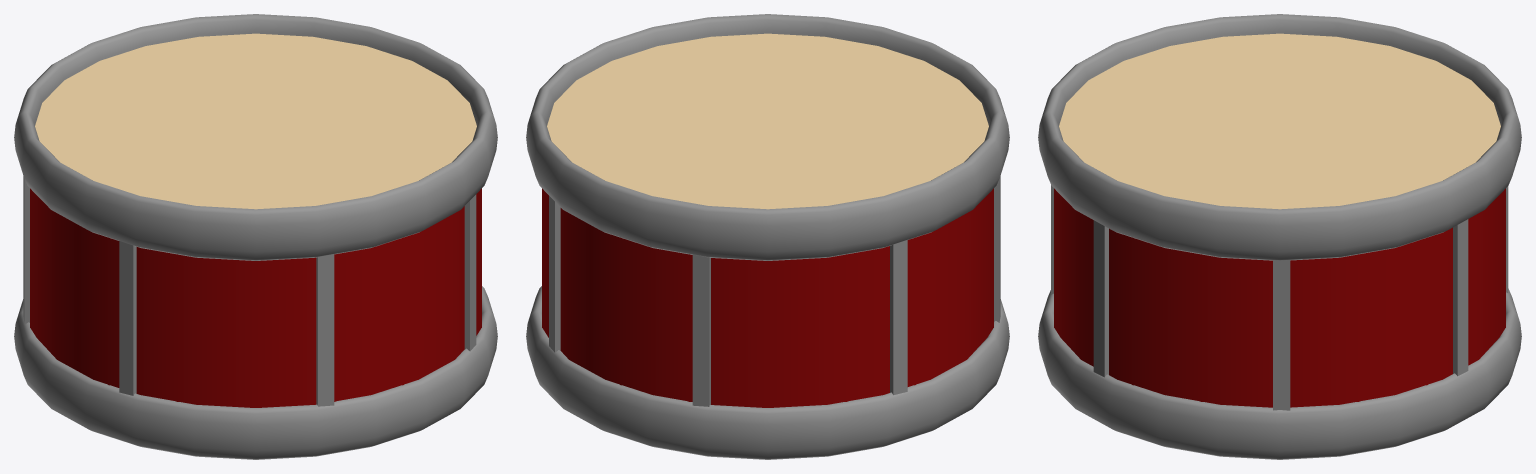
The model's file is Drum.FBX.
The picture shows the model from 3 angles, left to right: view 1: azimuth 30°, elevation 25°; view 2: azimuth 150°, elevation 25°; view 3: azimuth 270°, elevation 25°; orthographic projection.
Visible parts, largest first — view 1: Cylinder001, Torus001, Torus002, Box007, Box006, Box008, Box005; view 2: Cylinder001, Torus001, Torus002, Box004, Box005, Box003, Box006; view 3: Cylinder001, Torus001, Torus002, Box002, Box008, Box003.
Part boxes in pixels (x1,y1,x2,y2): Cylinder001: (30,33,481,407); Torus001: (14,14,497,260); Torus002: (14,286,497,459); Box007: (316,254,334,406); Box006: (119,241,136,395); Box008: (464,194,476,351); Box005: (23,176,29,324); Cylinder001: (542,33,993,407); Torus001: (526,14,1009,260); Torus002: (526,286,1009,459); Box004: (692,254,710,406); Box005: (890,240,907,395); Box003: (549,196,560,352); Box006: (994,176,1000,322); Cylinder001: (1054,33,1505,407); Torus001: (1038,14,1521,260); Torus002: (1038,288,1521,459); Box002: (1273,260,1290,410); Box008: (1093,220,1108,377); Box003: (1453,219,1468,376).
Size of the model in its own units: 84.26 by 48.19 by 84.26.
